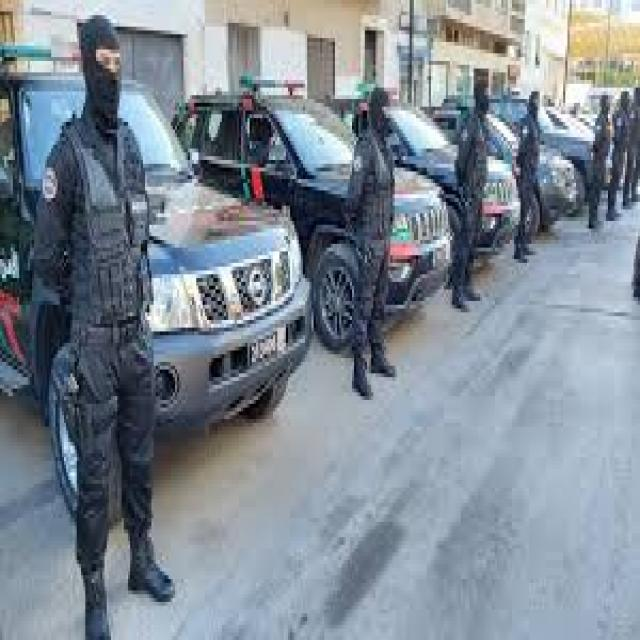police: (0, 29, 311, 510), (184, 70, 461, 355), (330, 88, 610, 244)
